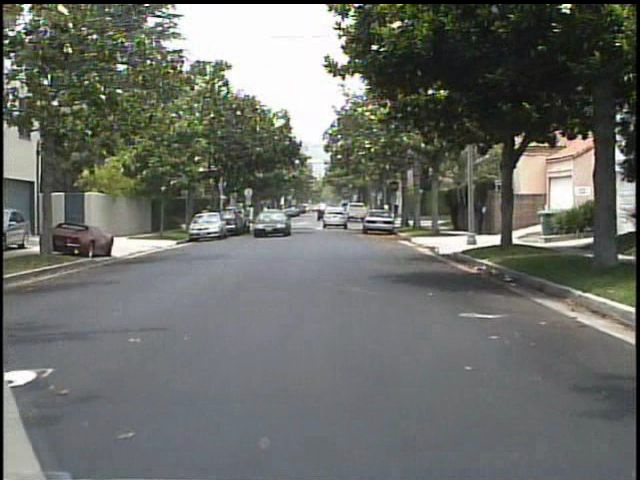person: (475, 193, 488, 237), (197, 204, 213, 232)
